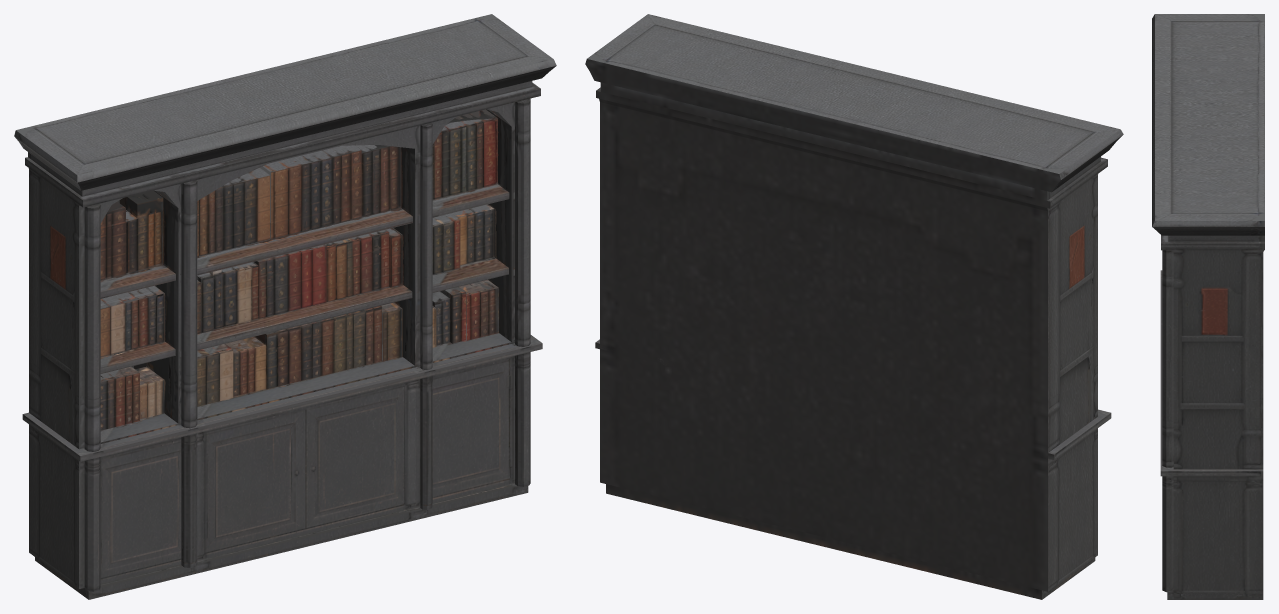
The model's file is Bookcase_Large.fbx.
The picture shows the model from 3 angles, left to right: view 1: azimuth 30°, elevation 25°; view 2: azimuth 150°, elevation 25°; view 3: azimuth 270°, elevation 25°; orthographic projection. The views are drawn at different scales.
Parts seen in each view (by area): view 1: Bookcase_Large_Low; view 2: Bookcase_Large_Low; view 3: Bookcase_Large_Low.
Boxes of the visible parts, left/top/right/bottom form: Bookcase_Large_Low: left=14, top=14, right=556, bottom=599; Bookcase_Large_Low: left=585, top=14, right=1123, bottom=599; Bookcase_Large_Low: left=1152, top=14, right=1264, bottom=599.
Bounding box in the file's own units: 3.12 × 2.7 × 0.713.
